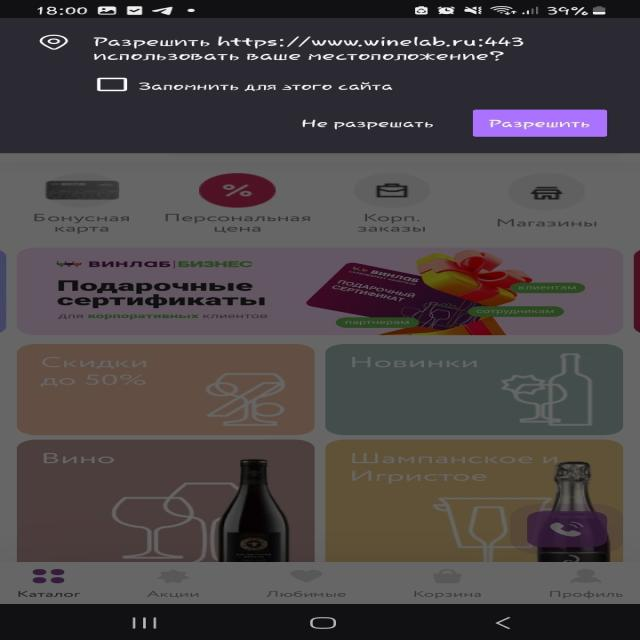button: (287, 108, 449, 139), (478, 109, 604, 137)
system: (6, 17, 640, 153)
